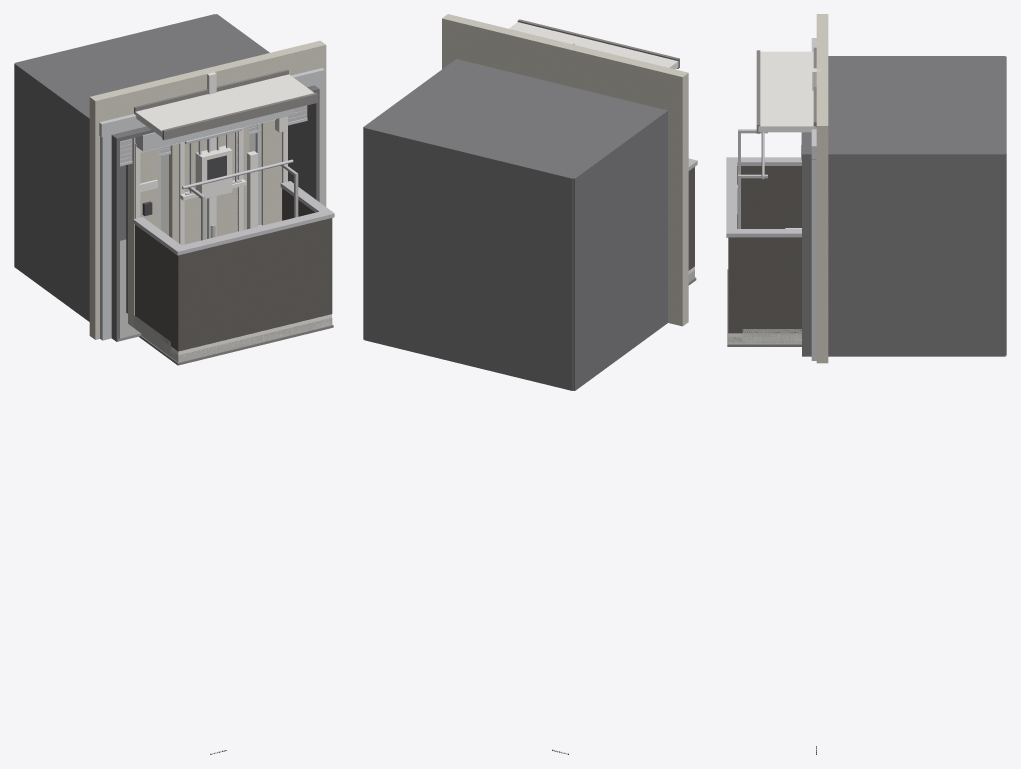
Rendered from neighbor_house_kit.glb.
The picture shows the model from 3 angles, left to right: view 1: azimuth 30°, elevation 25°; view 2: azimuth 150°, elevation 25°; view 3: azimuth 270°, elevation 25°; orthographic projection. The views are drawn at different scales.
Visible parts, largest first — view 1: nh_seg_garage, nh_balcony, nh_seg_entry, nh_seg_plain, nh_seg_win_l, nh_seg_door_l, nh_seg_win_s, nh_seg_win_t, nh_meter, nh_ac, nh_corner; view 2: nh_seg_garage, nh_seg_win_l, nh_seg_entry, nh_seg_plain, nh_seg_door_l, nh_balcony; view 3: nh_seg_garage, nh_balcony, nh_seg_entry, nh_seg_door_l.
Boxes of the visible parts, x1,y1,x2,y2 form: nh_seg_garage: (14,14,326,341); nh_balcony: (133,159,334,365); nh_seg_entry: (128,51,332,362); nh_seg_plain: (167,59,249,244); nh_seg_win_l: (126,50,287,318); nh_seg_door_l: (126,51,294,314); nh_seg_win_s: (172,61,248,245); nh_seg_win_t: (179,127,246,243); nh_meter: (195,145,232,198); nh_ac: (247,151,257,229); nh_corner: (207,71,216,238); nh_seg_garage: (363,14,688,390); nh_seg_win_l: (482,24,647,103); nh_seg_entry: (482,19,694,281); nh_seg_plain: (522,33,607,93); nh_seg_door_l: (487,25,642,101); nh_balcony: (688,158,697,285); nh_seg_garage: (802,14,1006,363); nh_balcony: (726,129,801,346); nh_seg_entry: (728,32,828,344); nh_seg_door_l: (801,35,828,160).
Size of the model in its own units: 2.73 by 7.71 by 2.89.
18 materials, 3 textured.
